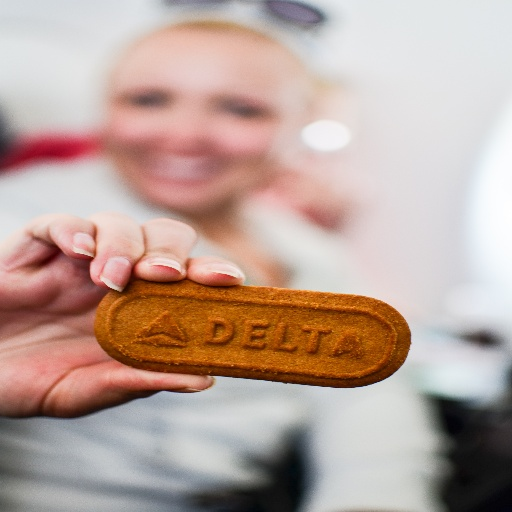hand: (0, 209, 244, 420)
